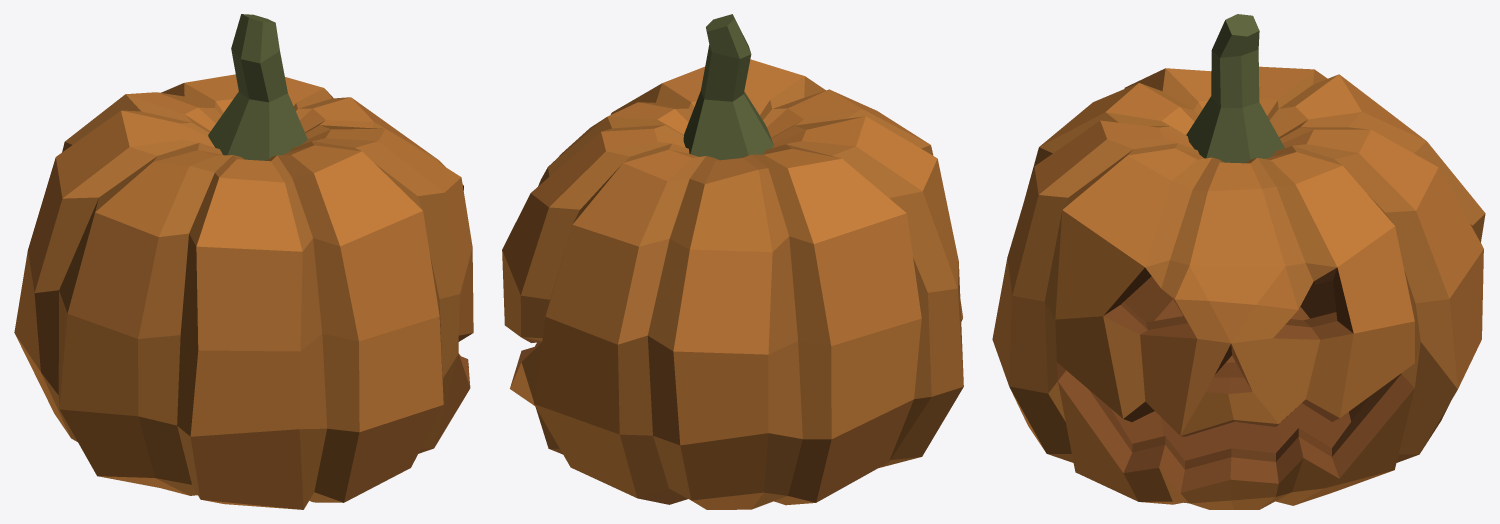
The model's file is SM_Prop_Pumpkin_Lanturn_01.fbx.
The picture shows the model from 3 angles, left to right: view 1: azimuth 30°, elevation 25°; view 2: azimuth 150°, elevation 25°; view 3: azimuth 270°, elevation 25°; orthographic projection.
Parts seen in each view (by area): view 1: SM_Prop_Pumpkin_Lanturn_01; view 2: SM_Prop_Pumpkin_Lanturn_01; view 3: SM_Prop_Pumpkin_Lanturn_01.
Part boxes in pixels (x1=…): SM_Prop_Pumpkin_Lanturn_01: x1=14, y1=14, x2=473, y2=509; SM_Prop_Pumpkin_Lanturn_01: x1=502, y1=14, x2=963, y2=509; SM_Prop_Pumpkin_Lanturn_01: x1=992, y1=14, x2=1485, y2=509.
Bounding box in the file's own units: 50.39 × 51.63 × 51.63.
